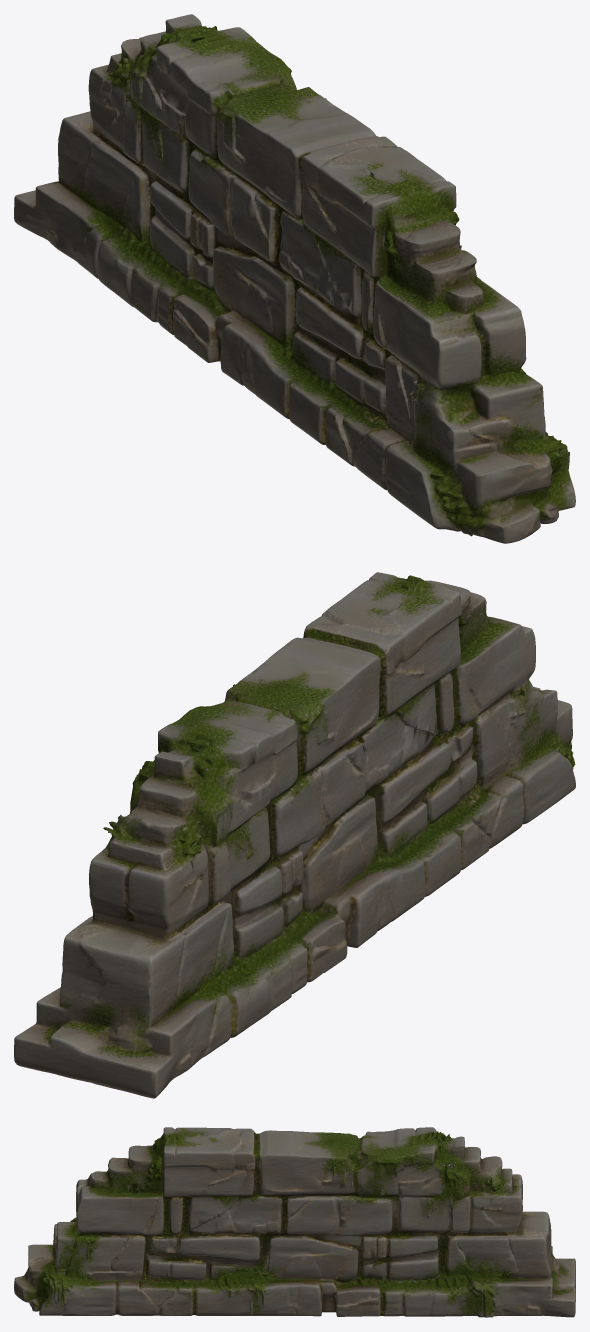
Rendered from low-ruined-wall-section-optimized.glb.
The picture shows the model from 3 angles, top to bottom: view 1: azimuth 30°, elevation 25°; view 2: azimuth 150°, elevation 25°; view 3: azimuth 270°, elevation 25°; orthographic projection. The views are drawn at different scales.
Parts seen in each view (by area): view 1: tripo_node_1812f685-5b82-4943-944e-b3721d4ea46d; view 2: tripo_node_1812f685-5b82-4943-944e-b3721d4ea46d; view 3: tripo_node_1812f685-5b82-4943-944e-b3721d4ea46d.
Part boxes in pixels (x1=…): tripo_node_1812f685-5b82-4943-944e-b3721d4ea46d: x1=14, y1=14, x2=575, y2=543; tripo_node_1812f685-5b82-4943-944e-b3721d4ea46d: x1=14, y1=572, x2=575, y2=1098; tripo_node_1812f685-5b82-4943-944e-b3721d4ea46d: x1=14, y1=1127, x2=575, y2=1317.
Size of the model in its own units: 0.1834 by 0.3243 by 0.9991.
1 material, 1 textured.
